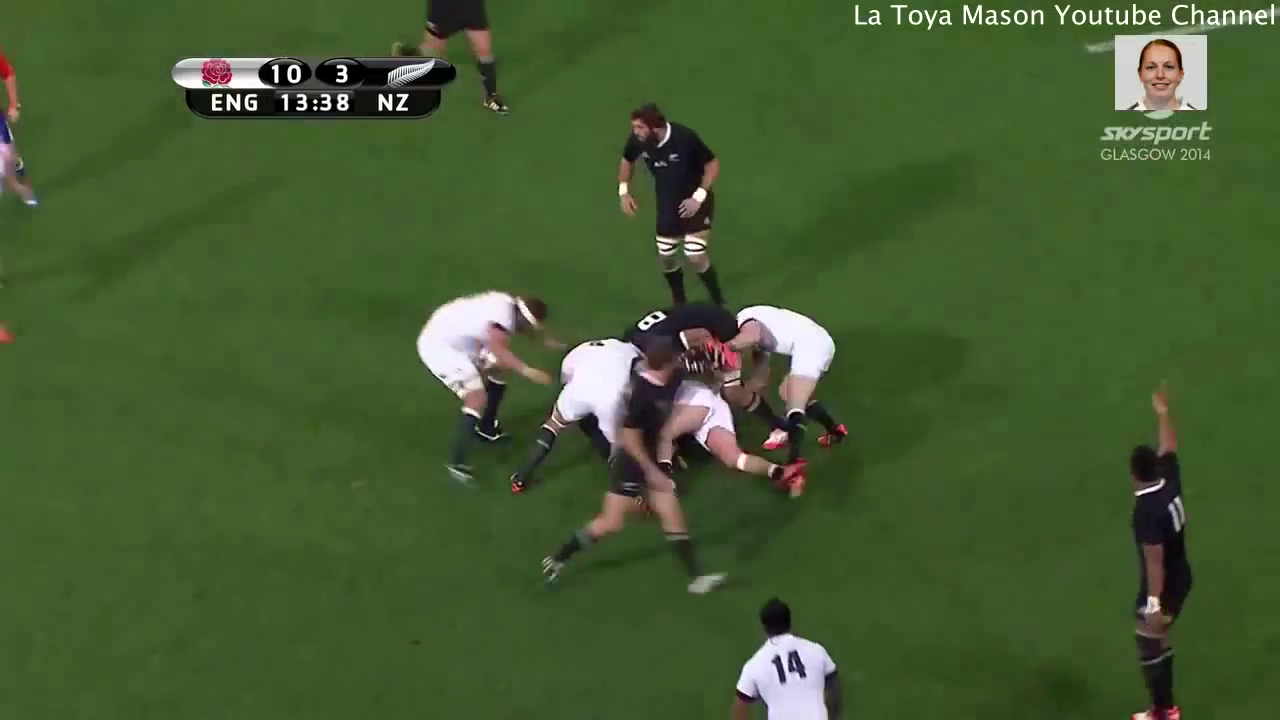player: (529, 323, 716, 604), (402, 271, 561, 492), (595, 94, 745, 326), (1105, 376, 1202, 720), (497, 314, 647, 492), (731, 289, 862, 472), (721, 585, 849, 720), (381, 1, 517, 122), (1, 41, 54, 224)
ruck: (508, 280, 863, 516)
